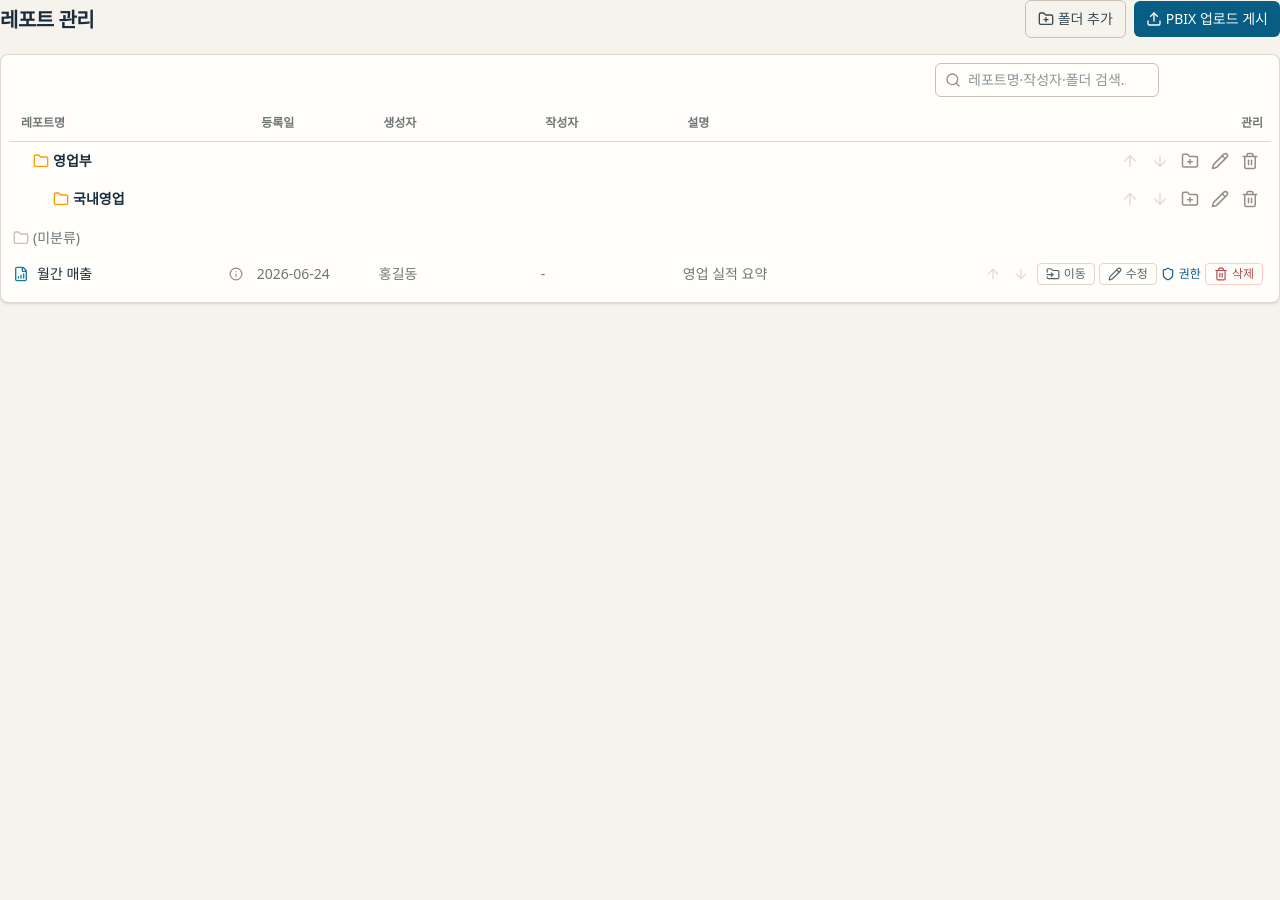
Scenario: ReportsPage › 권한 버튼 클릭 시 권한 패널을 연다
The image size is (1280, 900).
Click the button "권한": (1181, 274) [1161,266,1201,282]
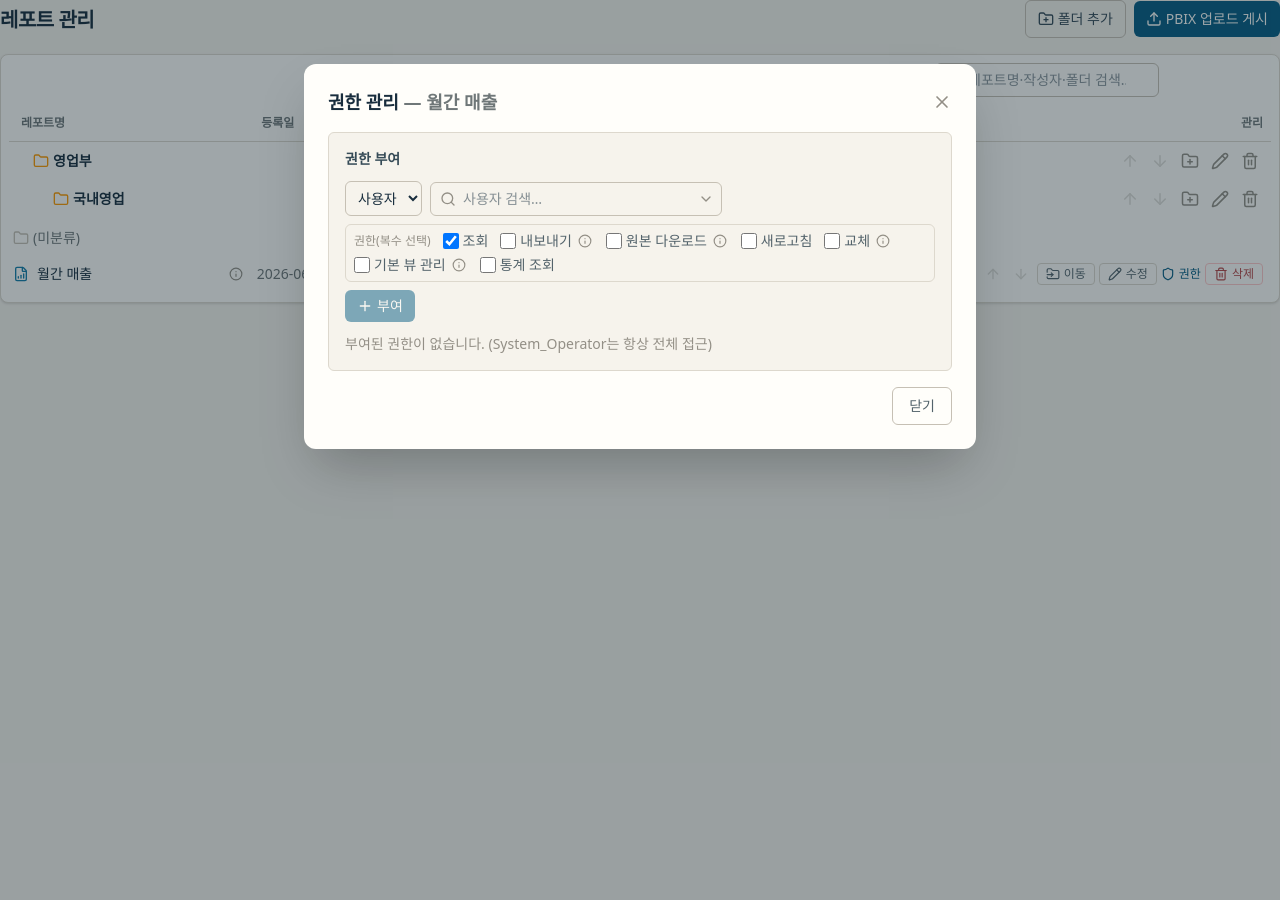
Expected: the heading "권한 부여" is shown, [345,149,400,168]
